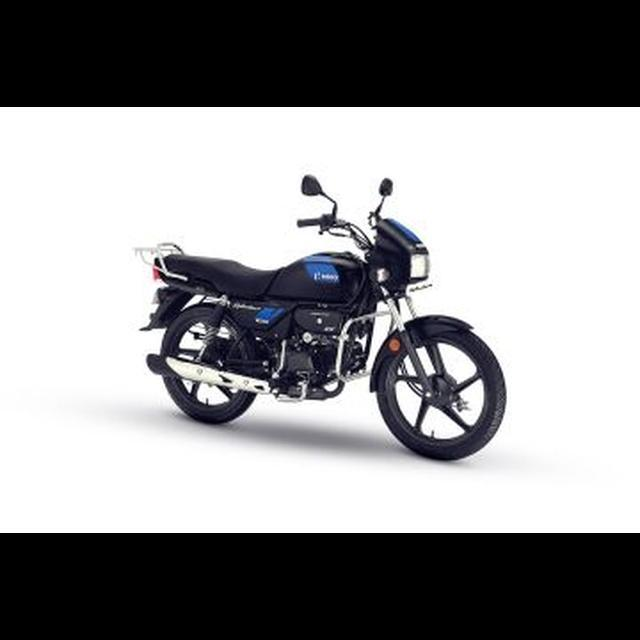motorcycle: (121, 165, 512, 467)
